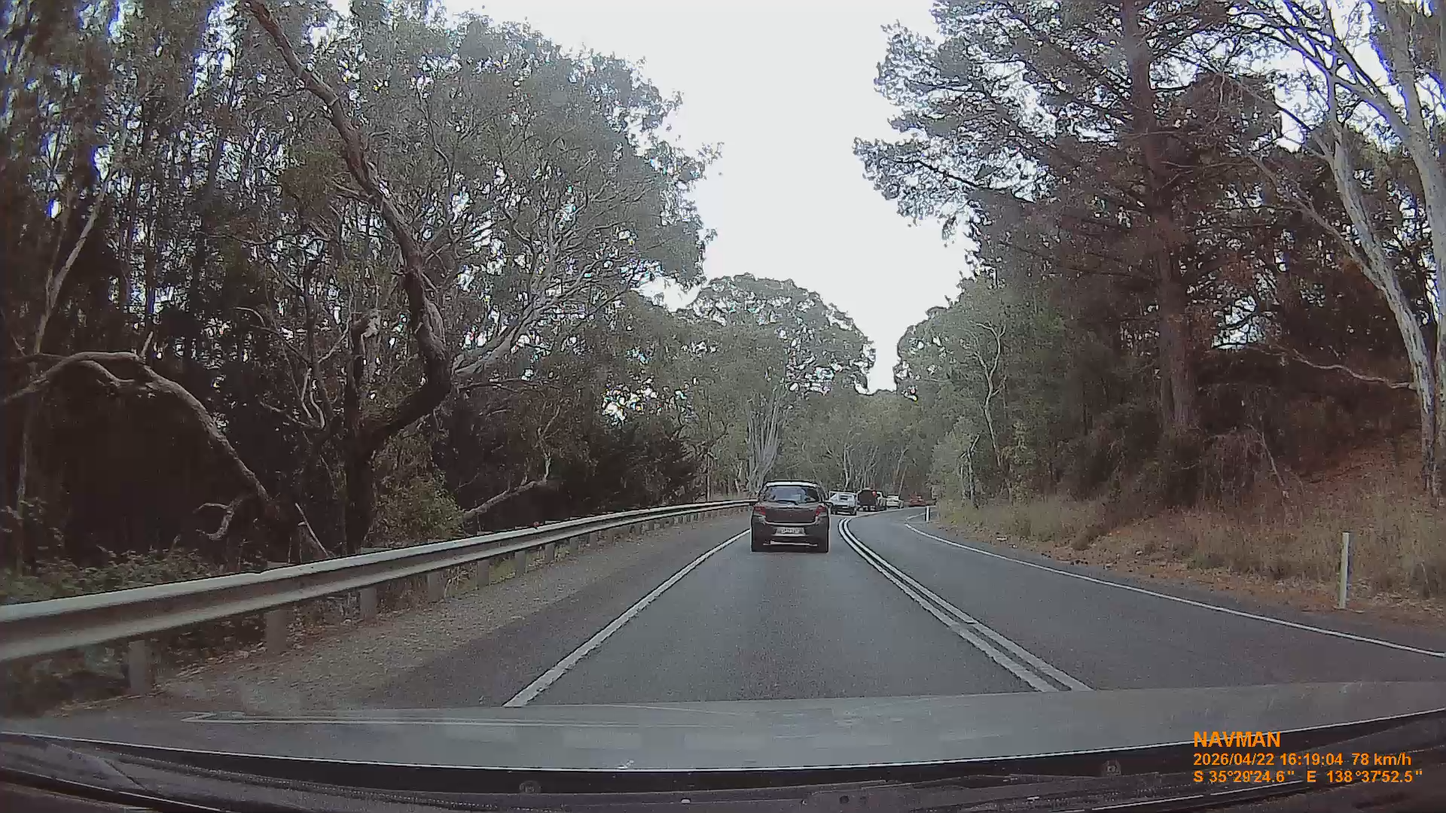road barriers: (0, 501, 747, 691)
